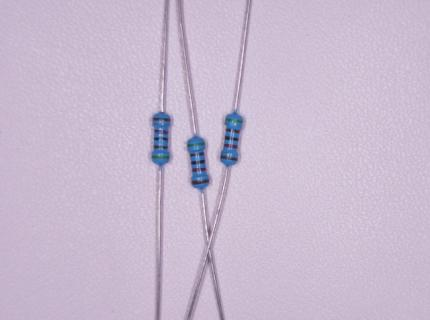Black band: (225, 135, 240, 142), (191, 159, 205, 165), (154, 137, 168, 142)
Brown band: (220, 154, 238, 162), (191, 178, 210, 185), (226, 128, 241, 134), (153, 117, 171, 122), (189, 152, 205, 157), (154, 145, 168, 150)
Green band: (225, 117, 244, 124), (187, 142, 206, 147), (151, 155, 170, 160)
Red band: (223, 143, 238, 150), (154, 129, 168, 135), (192, 167, 206, 173)
